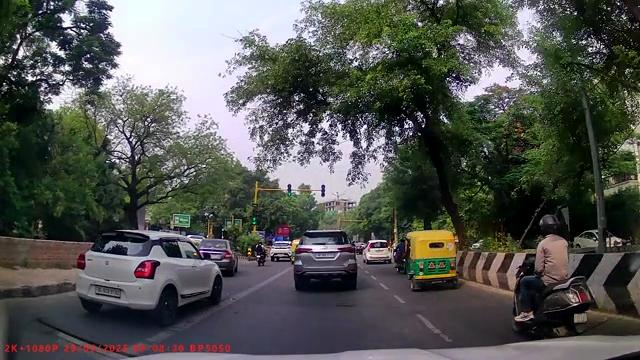motorcycle_with_helmet: (511, 215, 595, 338)
